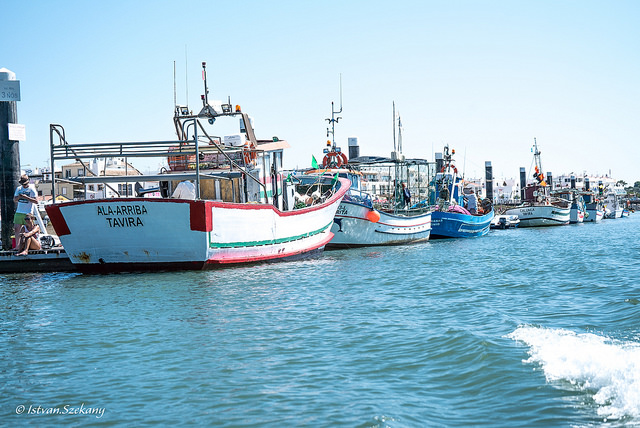fishing_boat: (43, 73, 349, 262), (338, 134, 441, 246), (433, 152, 501, 238), (507, 139, 570, 226)
